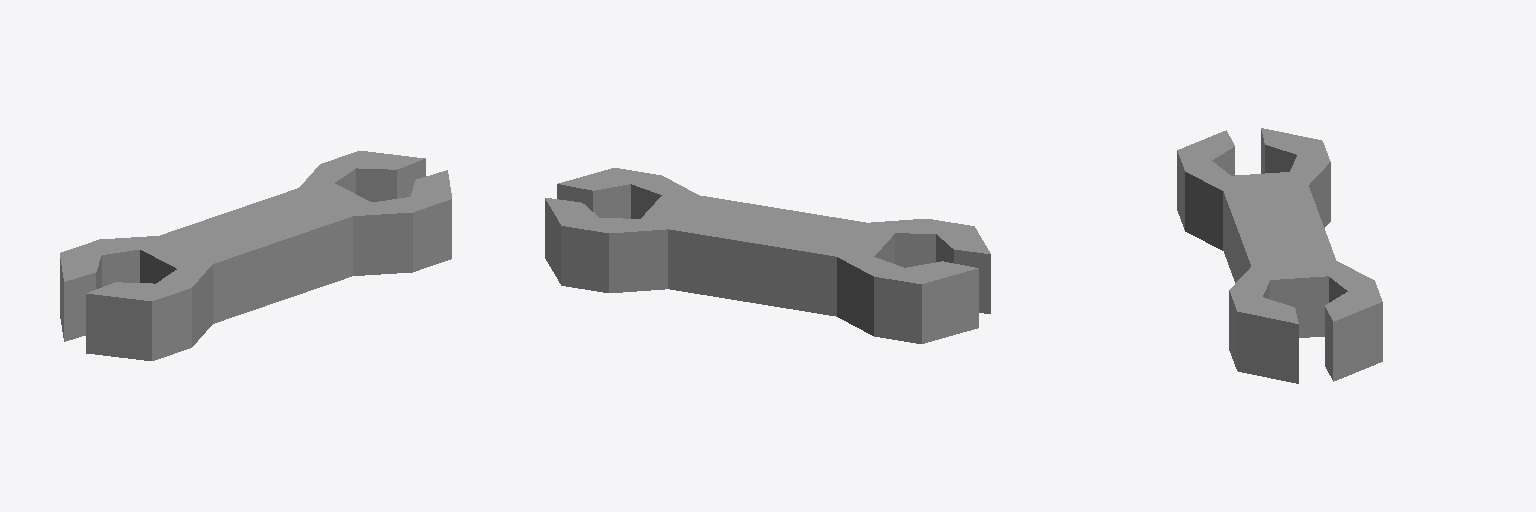
File: spanner.obj
3 renders of one model, left to right at view 1: azimuth 30°, elevation 25°; view 2: azimuth 150°, elevation 25°; view 3: azimuth 270°, elevation 25°, orthographic.
Visible parts, largest first — view 1: Cube; view 2: Cube; view 3: Cube.
Boxes of the visible parts, x1=… form: Cube: x1=60, y1=151, x2=451, y2=360; Cube: x1=545, y1=168, x2=990, y2=343; Cube: x1=1177, y1=128, x2=1382, y2=383.
Size of the model in its own units: 5.76 by 0.8198 by 2.55.